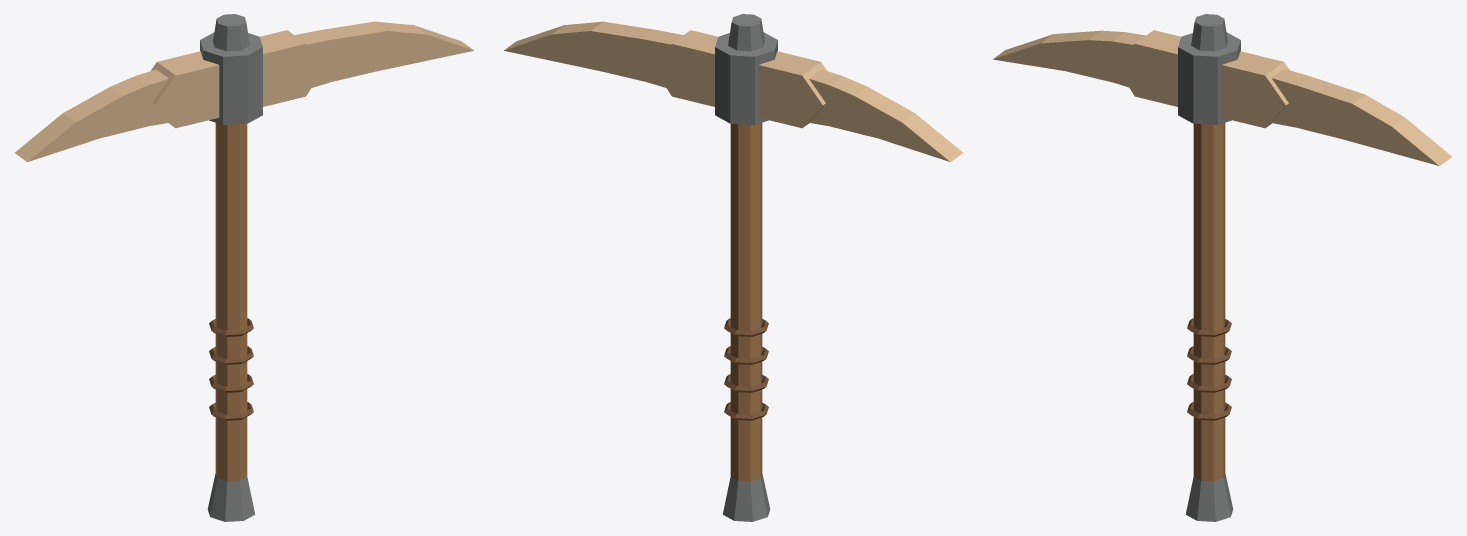
File: t2_pickaxe.glb
3 views of the same model, side by side, from view 1: azimuth 30°, elevation 25°; view 2: azimuth 150°, elevation 25°; view 3: azimuth 330°, elevation 25° (orthographic).
Parts seen in each view (by area): view 1: WoodHandle, HeadCore, RightPickHead, LeftPickHead, HeadSocket, BottomPommel, TopCap; view 2: WoodHandle, HeadCore, RightPickHead, LeftPickHead, HeadSocket, BottomPommel, TopCap; view 3: WoodHandle, RightPickHead, HeadCore, LeftPickHead, HeadSocket, BottomPommel, TopCap.
Part boxes in pixels (x1,y1,x2,y2): WoodHandle: (215,123,247,481); HeadCore: (151,30,326,128); RightPickHead: (294,21,473,87); LeftPickHead: (15,69,168,161); HeadSocket: (200,32,262,124); BottomPommel: (207,473,255,521); TopCap: (213,14,249,51); WoodHandle: (730,123,762,481); HeadCore: (651,30,826,128); RightPickHead: (504,21,683,87); LeftPickHead: (809,69,962,161); HeadSocket: (715,32,777,124); BottomPommel: (722,473,770,521); TopCap: (728,14,764,51); WoodHandle: (1193,123,1225,481); RightPickHead: (1271,69,1451,165); HeadCore: (1114,30,1289,128); LeftPickHead: (993,30,1145,87); HeadSocket: (1178,32,1240,124); BottomPommel: (1185,473,1233,521); TopCap: (1191,14,1227,51).
Size of the model in its own units: 1.51 by 1.59 by 0.19.
